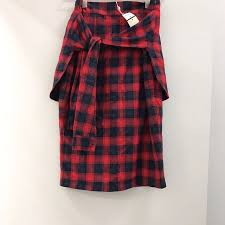C_skirt: (46, 1, 183, 201)
